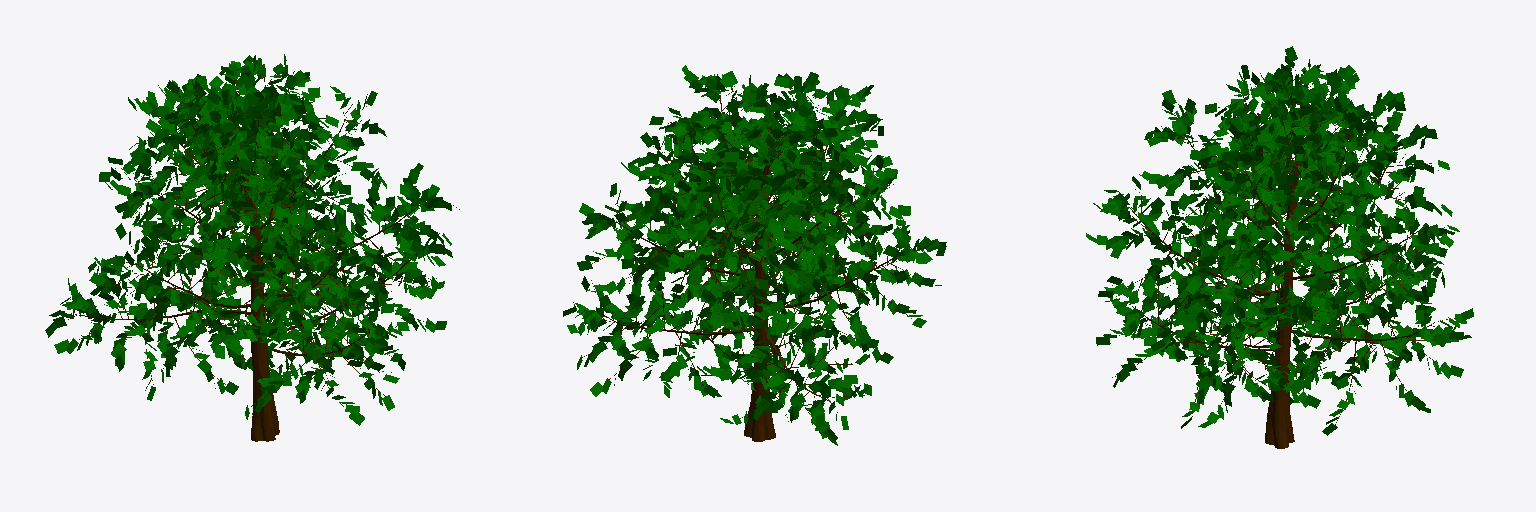
Rendered from arbol.obj.
The picture shows the model from 3 angles: view 1: azimuth 30°, elevation 25°; view 2: azimuth 150°, elevation 25°; view 3: azimuth 270°, elevation 25°; orthographic projection.
Visible parts, largest first — view 1: Foliage001; view 2: Foliage001; view 3: Foliage001.
Boxes of the visible parts, box(x1,y1,x2,y2) form: Foliage001: box(45, 54, 459, 441); Foliage001: box(563, 65, 946, 445); Foliage001: box(1086, 46, 1473, 448).
Size of the model in its own units: 89.49 by 93.79 by 90.74.